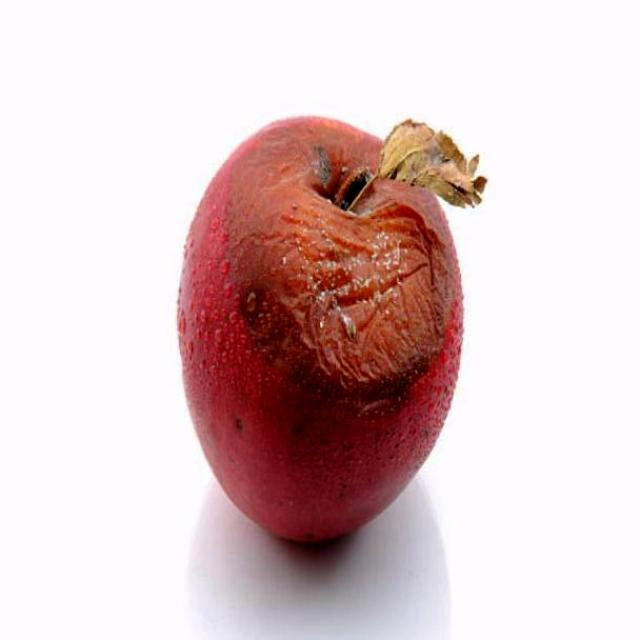ROT: (176, 106, 487, 554)
